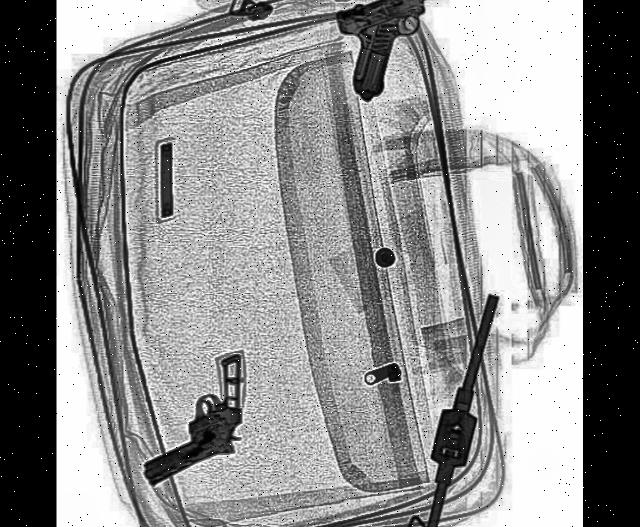Gun: (122, 350, 262, 492), (335, 0, 488, 101)
